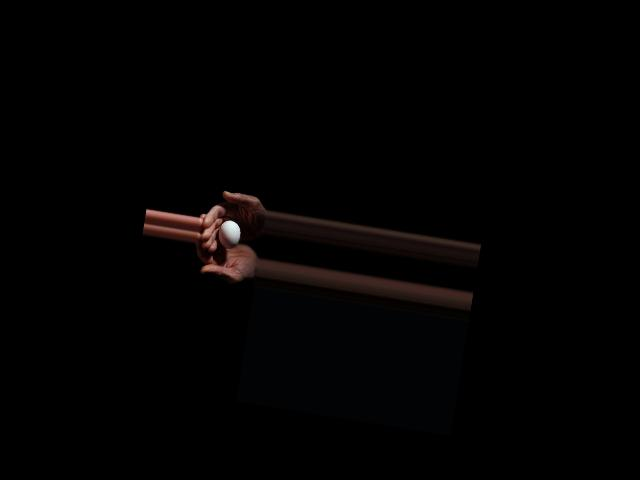egg: (216, 218, 242, 250)
